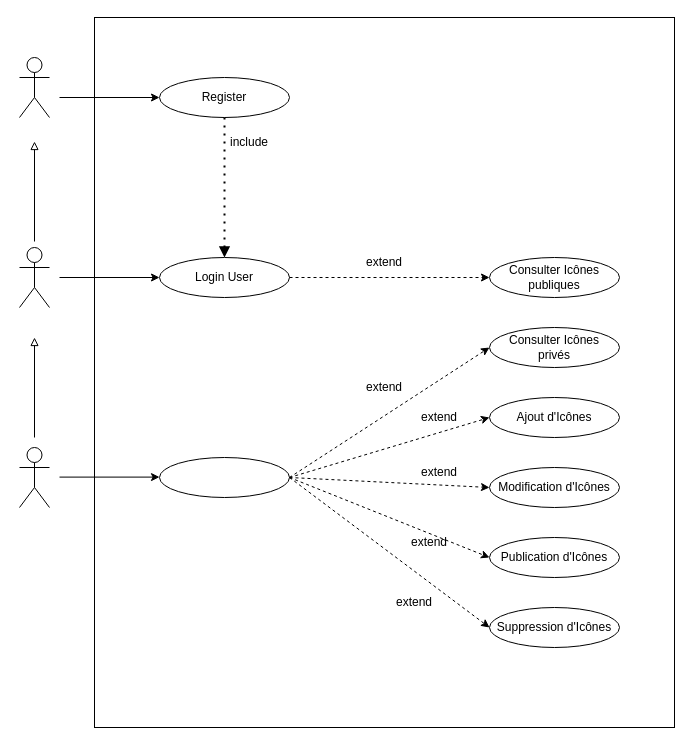
Image size: 692x745. Some labels were removed from this diagram. Each missing label, with the box of its shape:
Admin: (18, 446, 50, 508)
Login Admin: (158, 456, 290, 498)
User: (18, 246, 50, 308)
Visitor: (18, 56, 50, 118)
